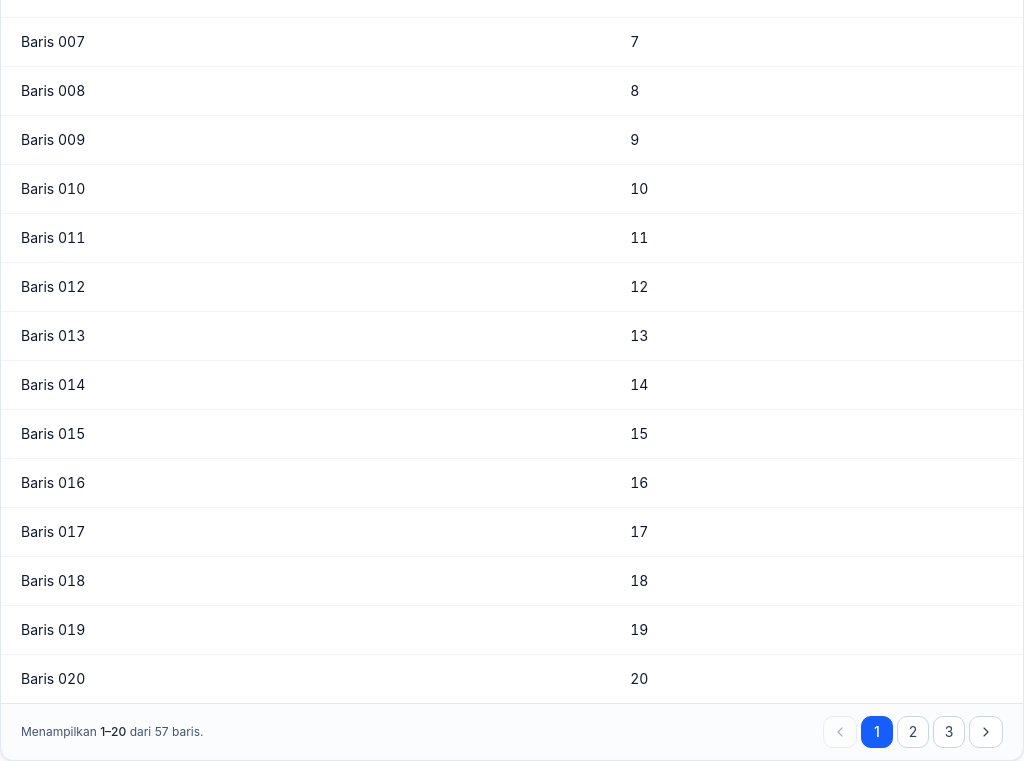
Test: paginasi › berpindah ke halaman berikutnya lewat nomor
The width and height of the screenshot is (1024, 761).
(page scrolled)
Click the button named "Halaman 2".
click(913, 732)  # box [897,716,929,748]
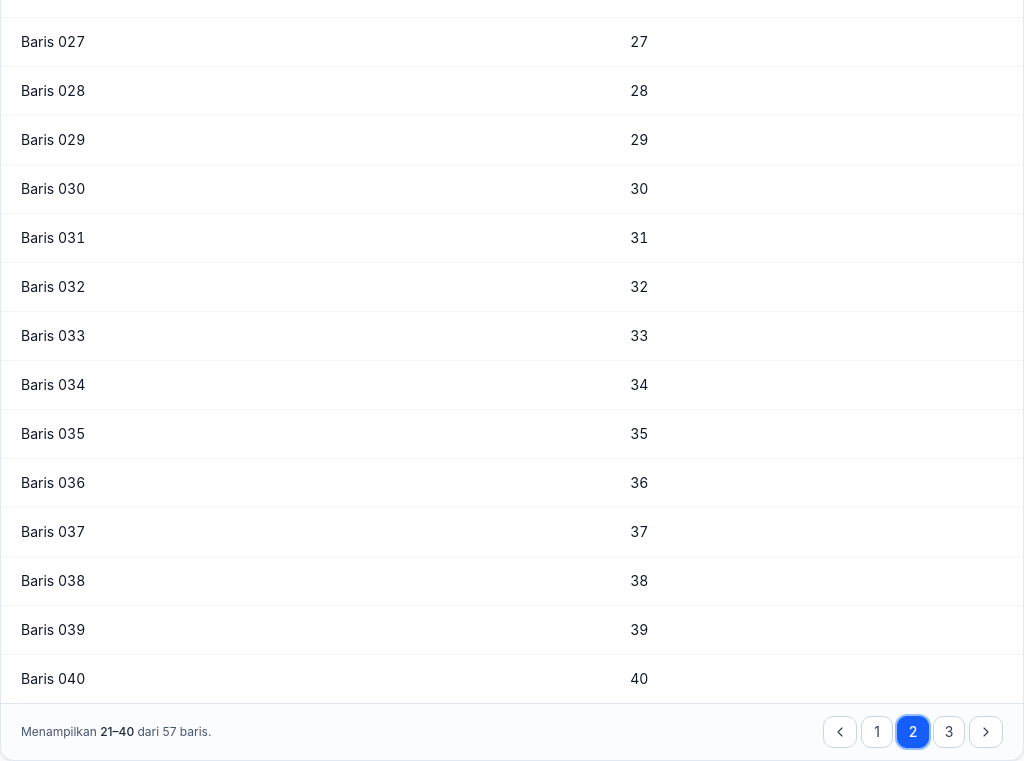
Result: the text "Baris 020" is gone
Result: the text "21–40" is shown at [100,724,134,739]
